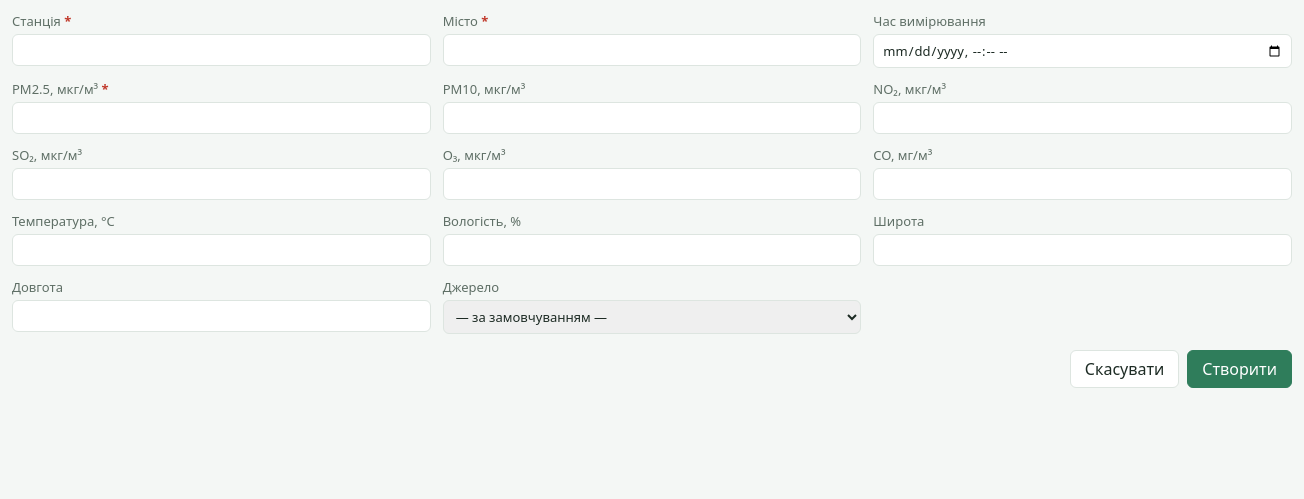
Scenario: перевірка форми › некоректні дані не відправляються, поля підсвічуються
Type "-3" into the number field named "pm25" at (221, 118), box [12,102,431,134]
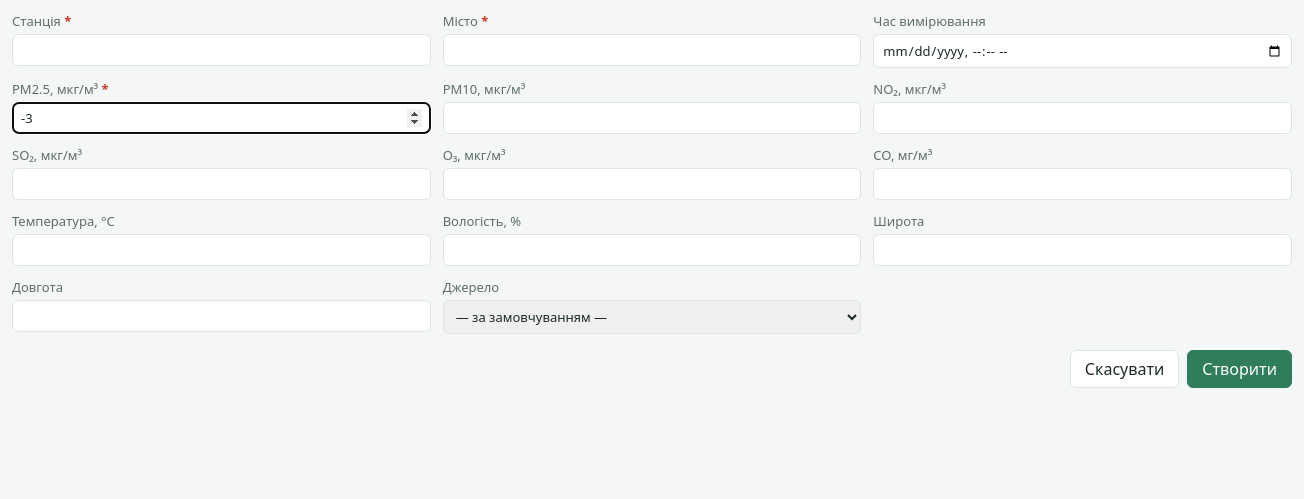
Click the button "Створити" at (1240, 369), box [1187,350,1292,388]
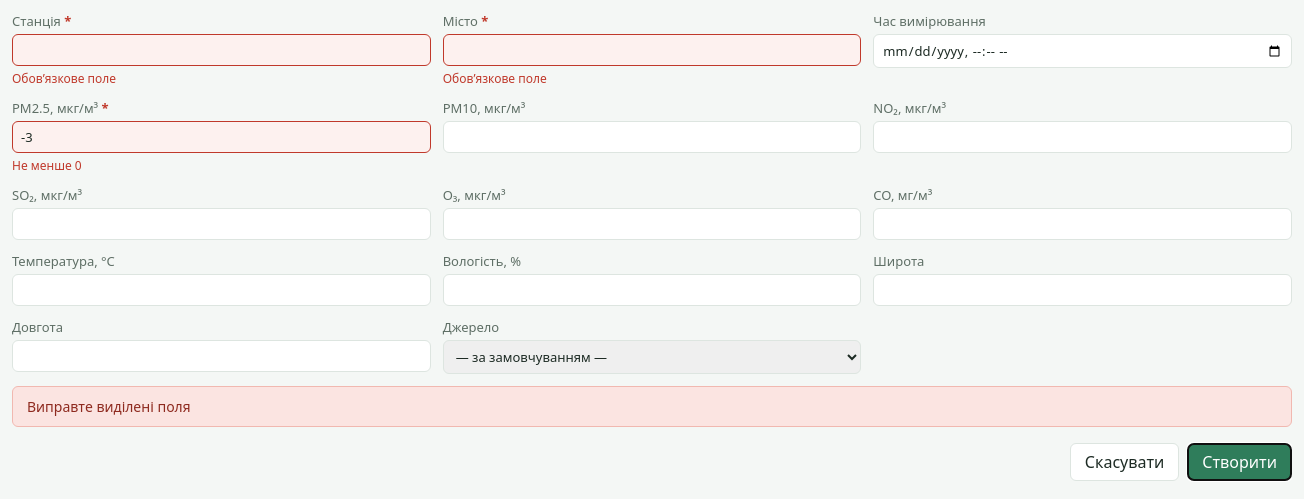
Expected: the number of labels with class "invalid" is 3, [12,12,431,87]; [443,12,861,87]; [12,99,431,174]
Expected: the text "Не менше 0" is shown, [12,157,82,174]
